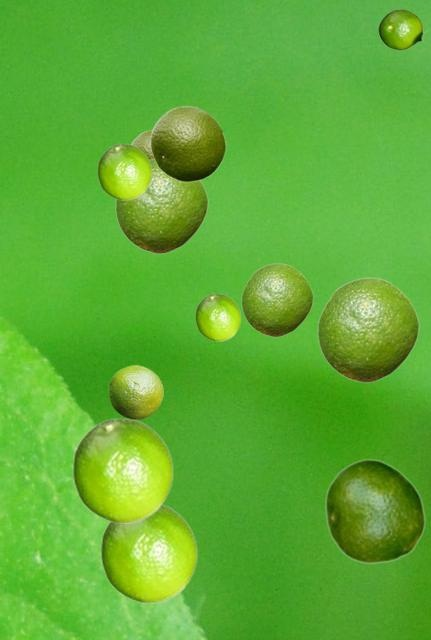calamansi: (324, 458, 425, 563), (317, 277, 418, 382), (72, 417, 173, 522), (100, 502, 197, 602), (115, 158, 207, 253), (150, 105, 225, 181), (241, 263, 312, 336), (97, 143, 151, 199), (108, 365, 162, 418), (195, 293, 240, 340), (378, 9, 427, 49), (131, 129, 152, 158)
